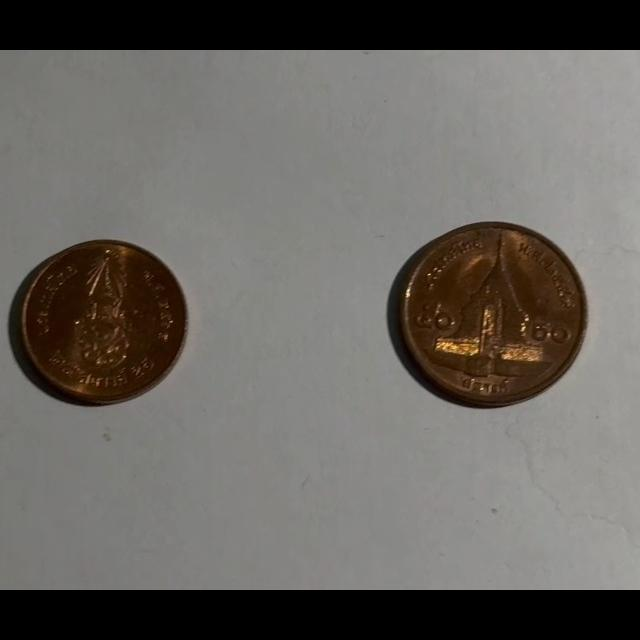25-satang: (17, 241, 187, 404)
50-satang: (393, 223, 584, 405)
